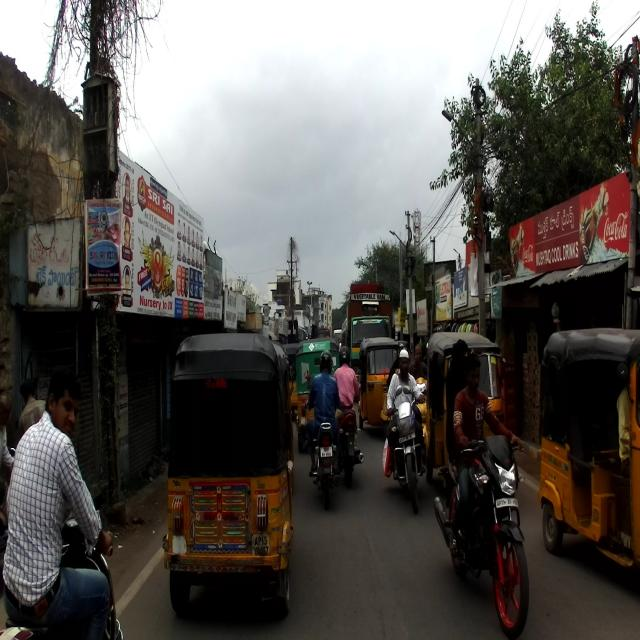autorickshaw: (160, 332, 296, 616), (534, 326, 639, 578), (420, 332, 506, 492)
motorcycle_Hero: (432, 434, 530, 640), (384, 386, 431, 517), (303, 400, 345, 510), (334, 402, 364, 484)
